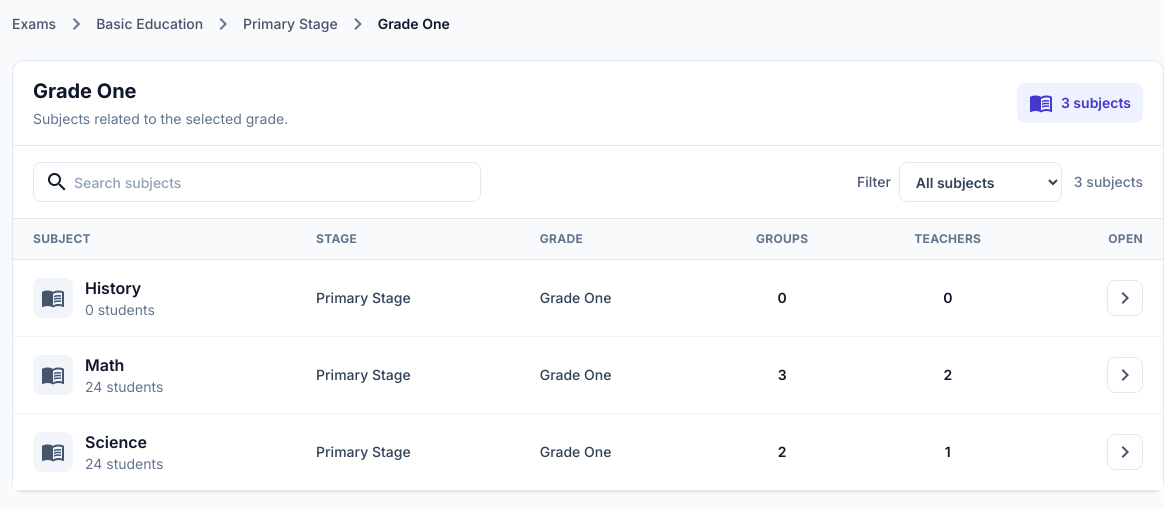
it: TenantExamsBasicEducationSubjectsComponent › filters subjects by search text
The image size is (1164, 509).
Type "math" into the search field with placeholder "Search subjects".
click(257, 182); type("math")  # box [33,162,481,202]
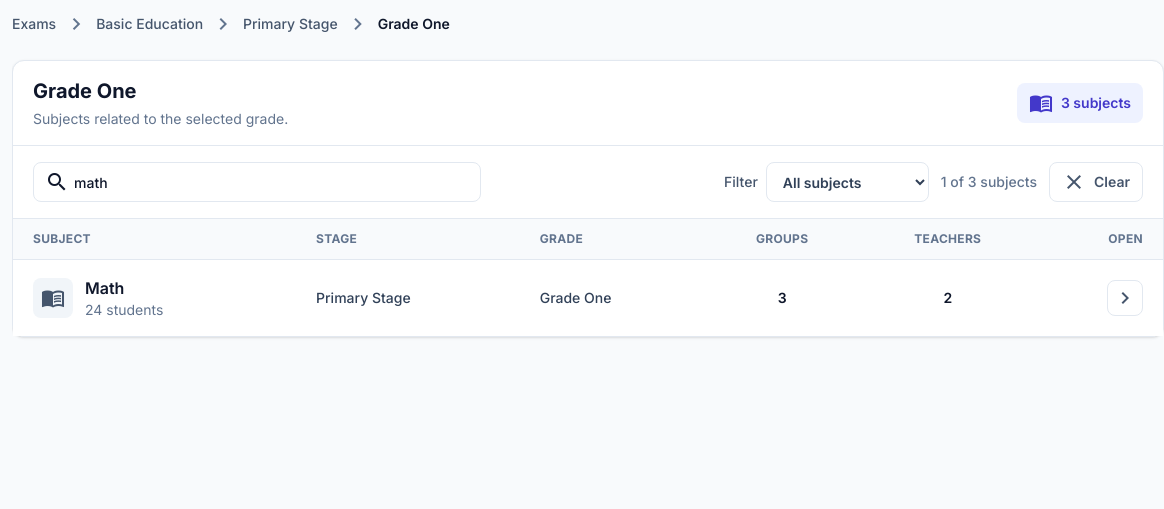
Result: the text "Science" is gone
Result: the text "History" is gone
Result: the text "1 of 3 subjects" is shown at [941,172,1037,192]
